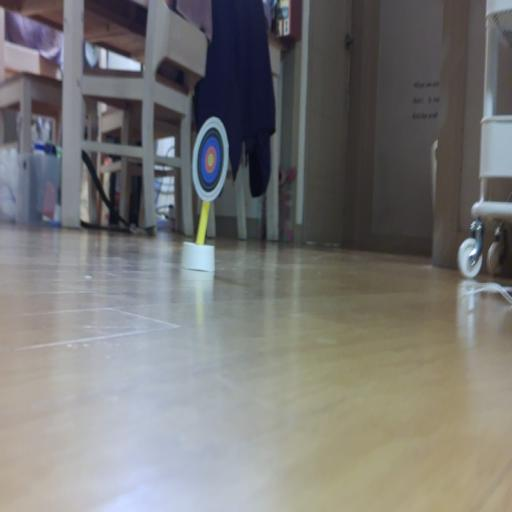target: (192, 117, 229, 202)
